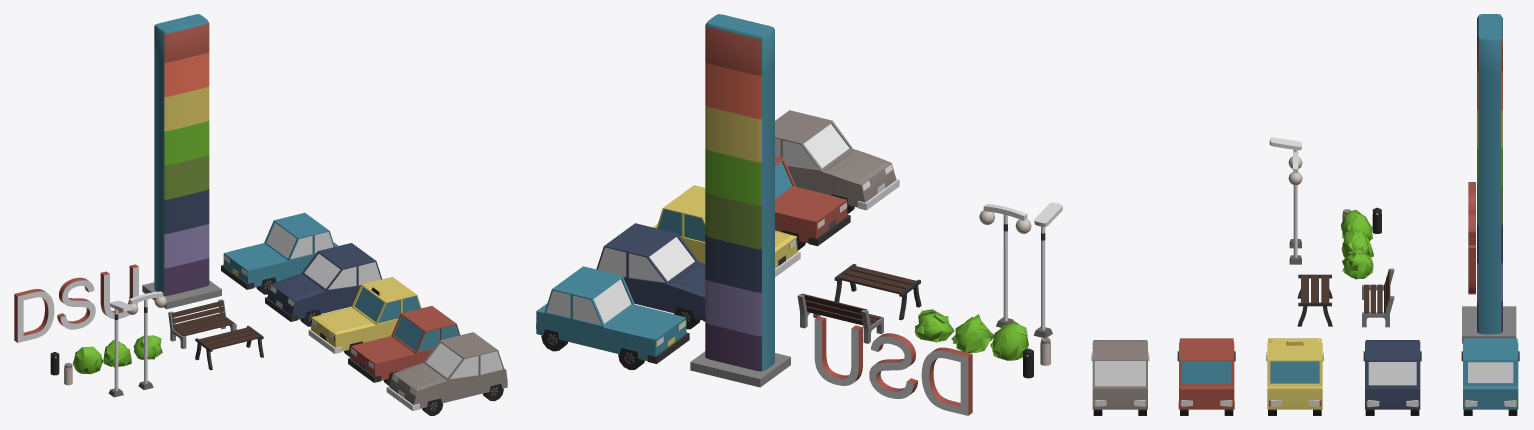
Rendered from Prop_stage3_2.fbx.
The picture shows the model from 3 angles, left to right: view 1: azimuth 30°, elevation 25°; view 2: azimuth 150°, elevation 25°; view 3: azimuth 270°, elevation 25°; orthographic projection. The views are drawn at different scales.
Parts seen in each view (by area): view 1: Prop_stage3_Rainbow, Prop_stage3_car_5, Prop_stage3_car_2, Prop_stage3_car, Prop_stage3_car_3, Prop_stage3_car_4, Prop_stage3_DSU, Prop_stage3_006, Prop_stage3_007, Prop_stage3_009, Prop_stage3_008, Prop_stage3_003 (+2 smaller); view 2: Prop_stage3_Rainbow, Prop_stage3_car, Prop_stage3_car_5, Prop_stage3_car_2, Prop_stage3_DSU, Prop_stage3_car_4, Prop_stage3_car_3, Prop_stage3_006, Prop_stage3_007, Prop_stage3_009, Prop_stage3_003, Prop_stage3_008 (+2 smaller); view 3: Prop_stage3_Rainbow, Prop_stage3_car_4, Prop_stage3_car, Prop_stage3_car_3, Prop_stage3_car_2, Prop_stage3_car_5, Prop_stage3_007, Prop_stage3_006, Prop_stage3_DSU, Prop_stage3_009, Prop_stage3_005, Prop_stage3_004 (+2 smaller).
Boxes of the visible parts, left/top/right/bottom form: Prop_stage3_Rainbow: left=142, top=14, right=221, bottom=309; Prop_stage3_car_5: left=386, top=332, right=507, bottom=415; Prop_stage3_car_2: left=265, top=243, right=381, bottom=326; Prop_stage3_car: left=221, top=212, right=338, bottom=294; Prop_stage3_car_3: left=308, top=277, right=421, bottom=357; Prop_stage3_car_4: left=348, top=306, right=460, bottom=385; Prop_stage3_DSU: left=14, top=264, right=138, bottom=342; Prop_stage3_006: left=168, top=299, right=236, bottom=348; Prop_stage3_007: left=195, top=325, right=263, bottom=370; Prop_stage3_009: left=126, top=291, right=166, bottom=389; Prop_stage3_008: left=108, top=300, right=132, bottom=397; Prop_stage3_003: left=72, top=346, right=103, bottom=374; Prop_stage3_Rainbow: left=690, top=14, right=790, bottom=387; Prop_stage3_car: left=536, top=266, right=689, bottom=369; Prop_stage3_car_5: left=775, top=110, right=899, bottom=213; Prop_stage3_car_2: left=596, top=223, right=705, bottom=329; Prop_stage3_DSU: left=814, top=316, right=972, bottom=415; Prop_stage3_car_4: left=775, top=156, right=850, bottom=250; Prop_stage3_car_3: left=653, top=185, right=800, bottom=277; Prop_stage3_006: left=797, top=293, right=883, bottom=343; Prop_stage3_007: left=834, top=264, right=921, bottom=320; Prop_stage3_009: left=979, top=204, right=1031, bottom=327; Prop_stage3_003: left=990, top=321, right=1028, bottom=360; Prop_stage3_008: left=1033, top=202, right=1062, bottom=337; Prop_stage3_Rainbow: left=1462, top=14, right=1516, bottom=343; Prop_stage3_car_4: left=1177, top=338, right=1235, bottom=415; Prop_stage3_car: left=1461, top=338, right=1519, bottom=415; Prop_stage3_car_3: left=1266, top=338, right=1323, bottom=415; Prop_stage3_car_2: left=1363, top=340, right=1421, bottom=415; Prop_stage3_car_5: left=1091, top=340, right=1149, bottom=415; Prop_stage3_007: left=1297, top=274, right=1332, bottom=326; Prop_stage3_006: left=1362, top=268, right=1394, bottom=327; Prop_stage3_DSU: left=1468, top=182, right=1475, bottom=294; Prop_stage3_009: left=1288, top=151, right=1302, bottom=264; Prop_stage3_005: left=1342, top=250, right=1373, bottom=279; Prop_stage3_004: left=1341, top=230, right=1373, bottom=257.
Bounding box in the file's own units: 9.49 × 7.74 × 9.54.
Materials: 1 (1 with a texture image).
